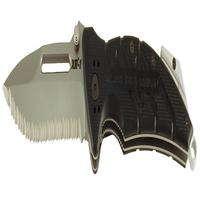knife: (2, 19, 200, 167)
